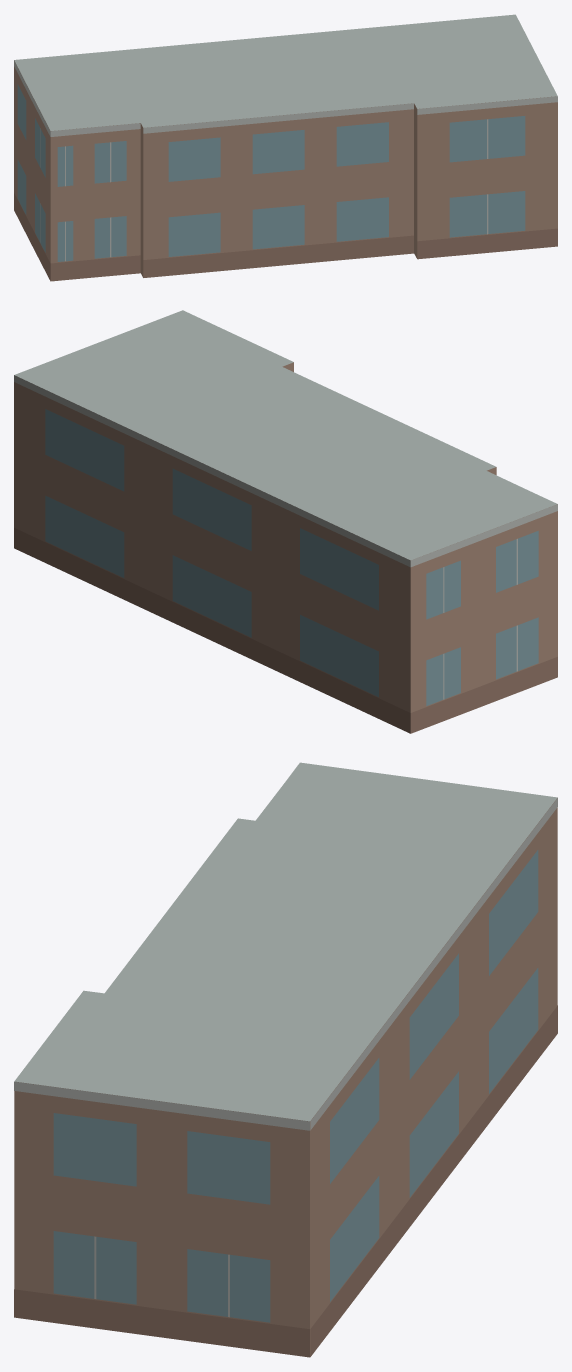
File: survey-upis-32806857.glb
The picture shows the model from 3 angles, top to bottom: view 1: azimuth 30°, elevation 25°; view 2: azimuth 150°, elevation 25°; view 3: azimuth 270°, elevation 25°; orthographic projection. The views are drawn at different scales.
Visible parts, largest first — view 1: survey-upis-32806857.tmp; view 2: survey-upis-32806857.tmp; view 3: survey-upis-32806857.tmp.
Boxes of the visible parts, x1,y1,x2,y2 form: survey-upis-32806857.tmp: [14, 14, 557, 281]; survey-upis-32806857.tmp: [14, 310, 557, 733]; survey-upis-32806857.tmp: [14, 762, 557, 1357].
Size of the model in its own units: 19.91 by 6.1 by 12.74.
